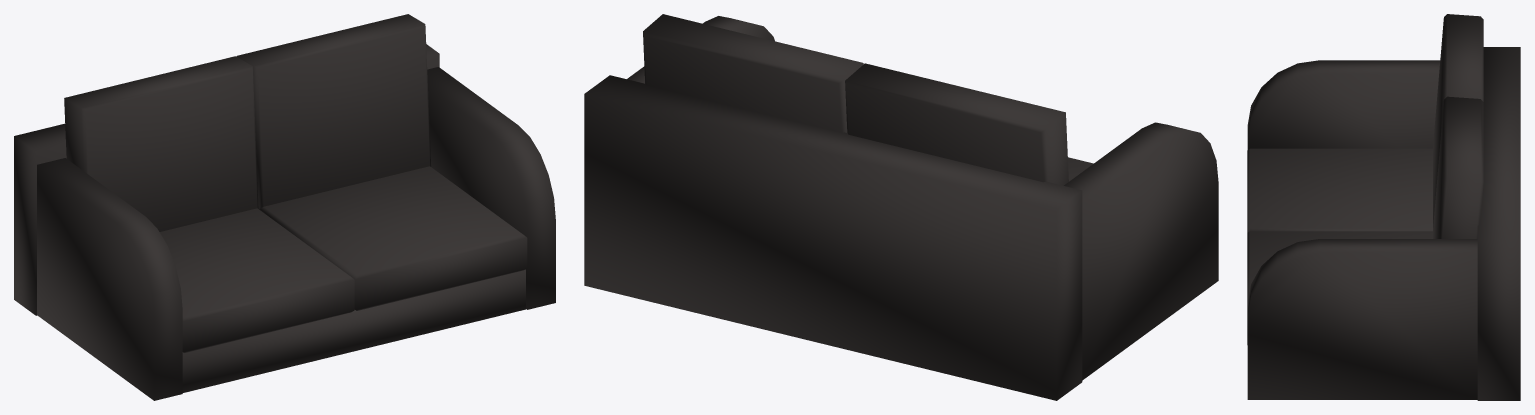
Rendered from Sofa_01.fbx.
3 views of the same model, side by side, from view 1: azimuth 30°, elevation 25°; view 2: azimuth 150°, elevation 25°; view 3: azimuth 270°, elevation 25° (orthographic). The views are drawn at different scales.
Parts seen in each view (by area): view 1: Sofa_01; view 2: Sofa_01; view 3: Sofa_01.
Part boxes in pixels (x1,y1,x2,y2): Sofa_01: (14,14,555,400); Sofa_01: (584,14,1218,400); Sofa_01: (1247,14,1520,400).
Bounding box in the file's own units: 202 × 101 × 121.
